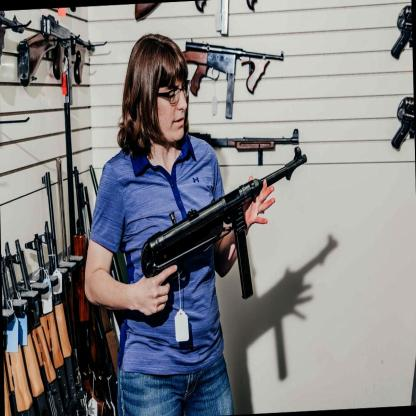rifle: (139, 143, 312, 308)
